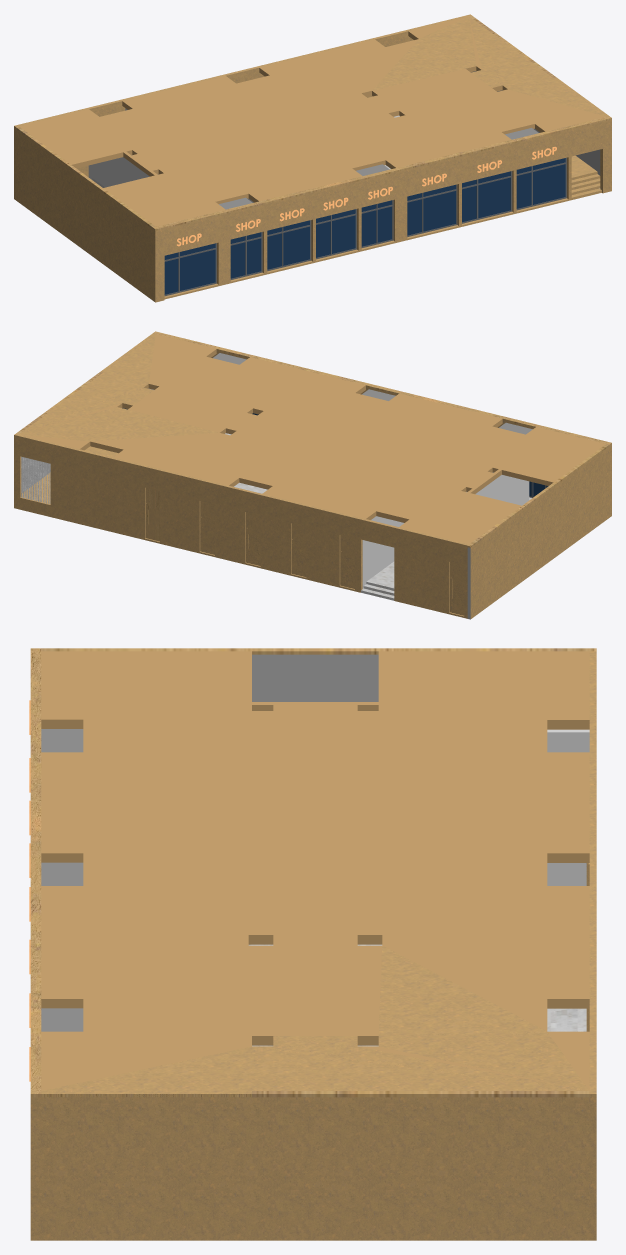
File: groundfloor.compressed.glb
The picture shows the model from 3 angles, top to bottom: view 1: azimuth 30°, elevation 25°; view 2: azimuth 150°, elevation 25°; view 3: azimuth 270°, elevation 25°; orthographic projection. The views are drawn at different scales.
Visible parts, largest first — view 1: GROUND FLOOR; view 2: GROUND FLOOR; view 3: GROUND FLOOR.
Part boxes in pixels (box(x1,y1,x2,y2)): GROUND FLOOR: box(14, 14, 611, 302); GROUND FLOOR: box(14, 331, 611, 619); GROUND FLOOR: box(29, 648, 596, 1240).
Bounding box in the file's own units: 11.08 × 1.7 × 5.96.
Materials: 9 (3 with a texture image).
